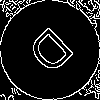D: (25, 25, 83, 84)
